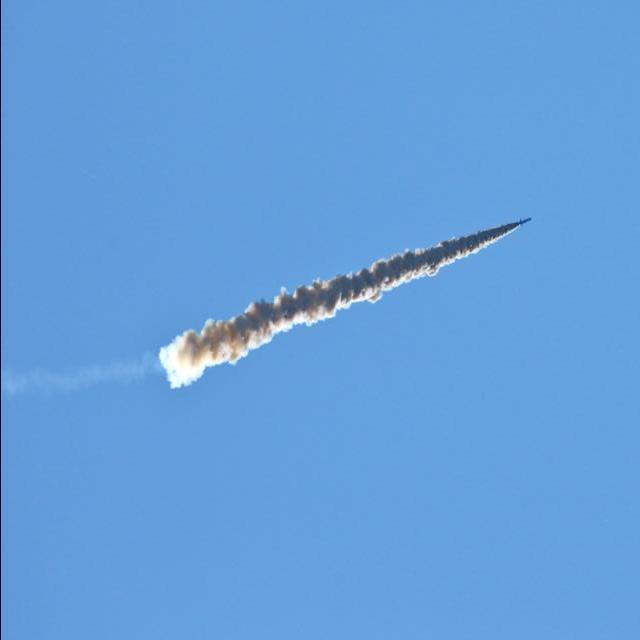missile: (519, 216, 533, 225)
